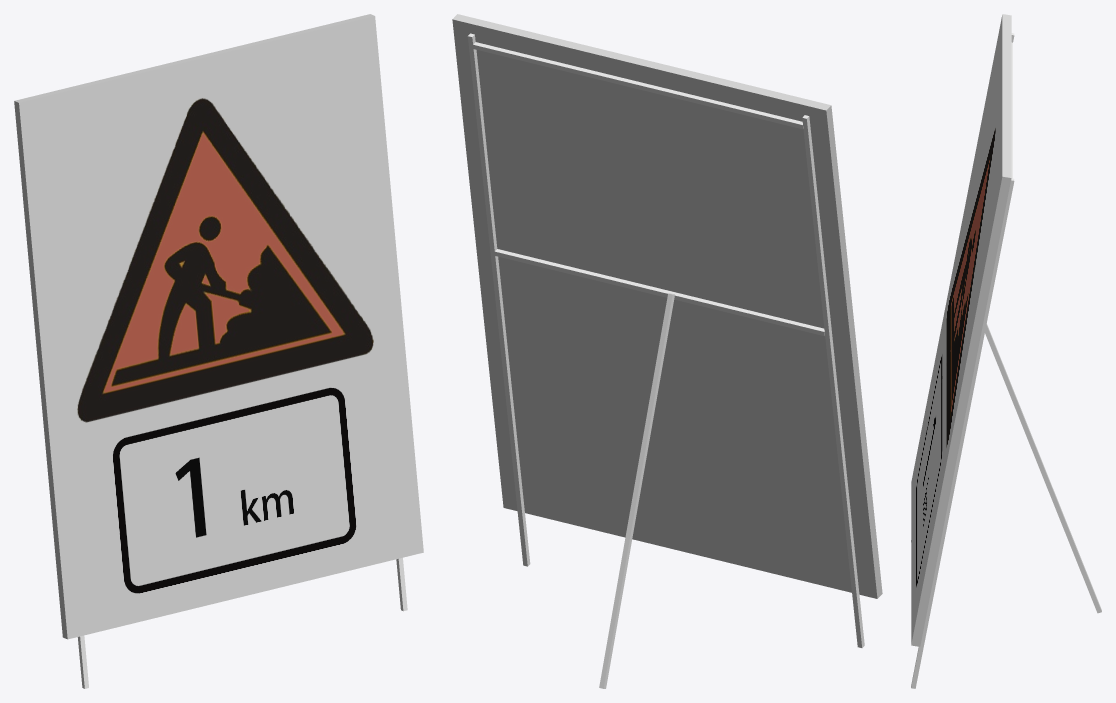
3 renders of one model, left to right at view 1: azimuth 30°, elevation 25°; view 2: azimuth 150°, elevation 25°; view 3: azimuth 270°, elevation 25°, orthographic. The views are drawn at different scales.
Visible parts, largest first — view 1: 立方体-材质.3, 立方体-材质.5; view 2: 立方体-材质.5, 立方体.4, 立方体.3, 立方体.7, 立方体.5, 立方体.6; view 3: 立方体-材质.3, 立方体-材质.5, 立方体.3, 立方体.7.
Part boxes in pixels (x1,y1,x2,y2): 立方体-材质.3: (19, 16, 423, 639); 立方体-材质.5: (14, 14, 374, 639); 立方体-材质.5: (452, 14, 882, 598); 立方体.4: (802, 115, 864, 647); 立方体.3: (468, 33, 530, 566); 立方体.7: (599, 293, 674, 688); 立方体.5: (469, 42, 803, 129); 立方体.6: (491, 249, 824, 336); 立方体-材质.3: (911, 15, 1002, 643); 立方体-材质.5: (911, 14, 1011, 646); 立方体.3: (911, 178, 1014, 688); 立方体.7: (985, 323, 1101, 613).
Size of the model in its own units: 5.71 by 8.56 by 2.83.
3 materials, 1 textured.
